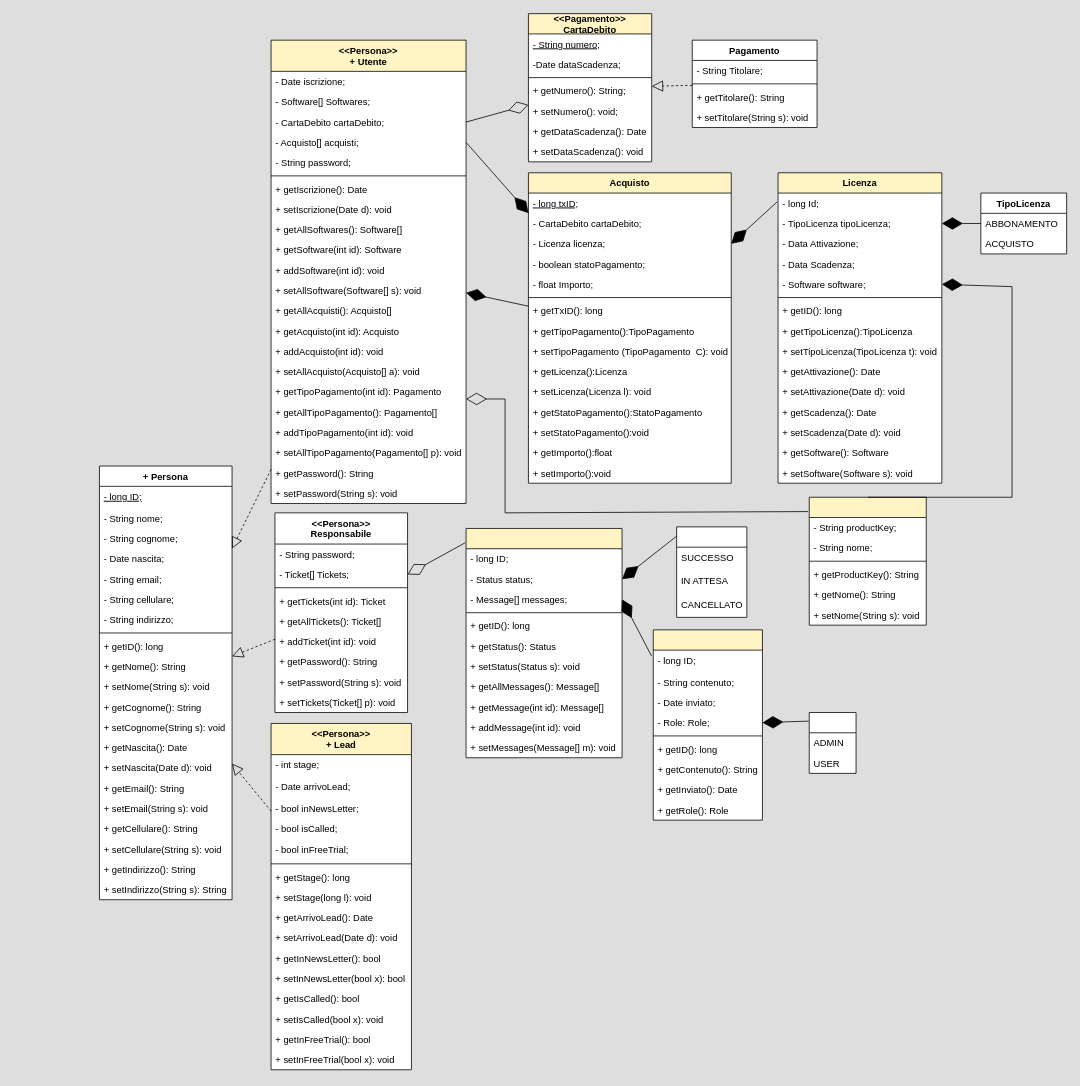
Some shapes in this 1080 by 1086 pixel diagram are drawn without their labels. The box of each missing label's shape, as (x1, y1, x2, y2) in pixels:
Message: (652, 629, 762, 820)
Role: (808, 712, 856, 773)
Software: (808, 496, 926, 625)
Status: (676, 526, 747, 617)
Ticket: (465, 528, 622, 758)
